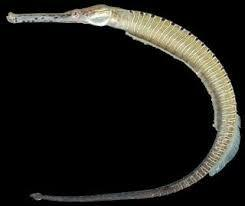Long-Snouted Pipefish: (6, 5, 245, 204)
